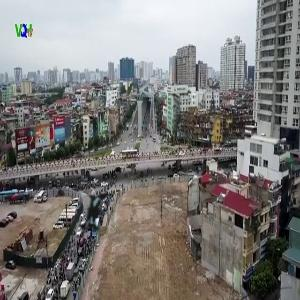drone: (29, 149, 160, 280)
